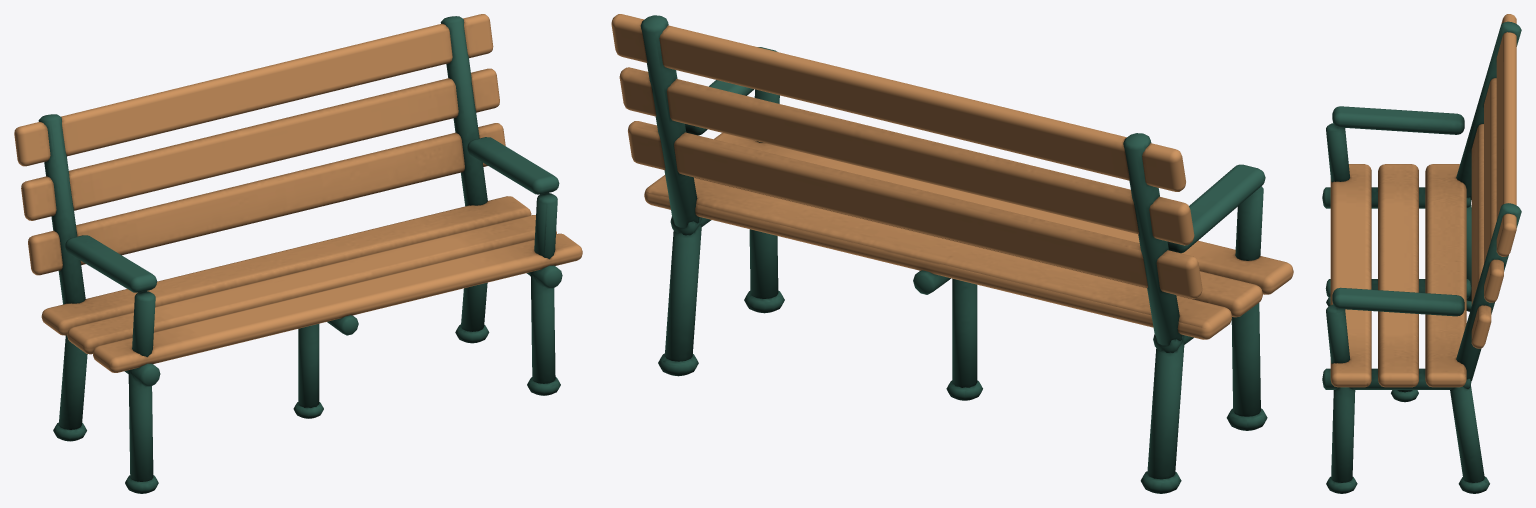
The model's file is park_bench.glb.
3 renders of one model, left to right at view 1: azimuth 30°, elevation 25°; view 2: azimuth 150°, elevation 25°; view 3: azimuth 270°, elevation 25°, orthographic. The views are drawn at different scales.
Visible parts, largest first — view 1: park_bench; view 2: park_bench; view 3: park_bench.
Part boxes in pixels (left/top/right/bottom): park_bench: left=14, top=14, right=582, bottom=493; park_bench: left=611, top=14, right=1293, bottom=493; park_bench: left=1322, top=14, right=1521, bottom=493.
Size of the model in its own units: 1.6 by 1 by 0.6319.
2 materials, 2 textured.
